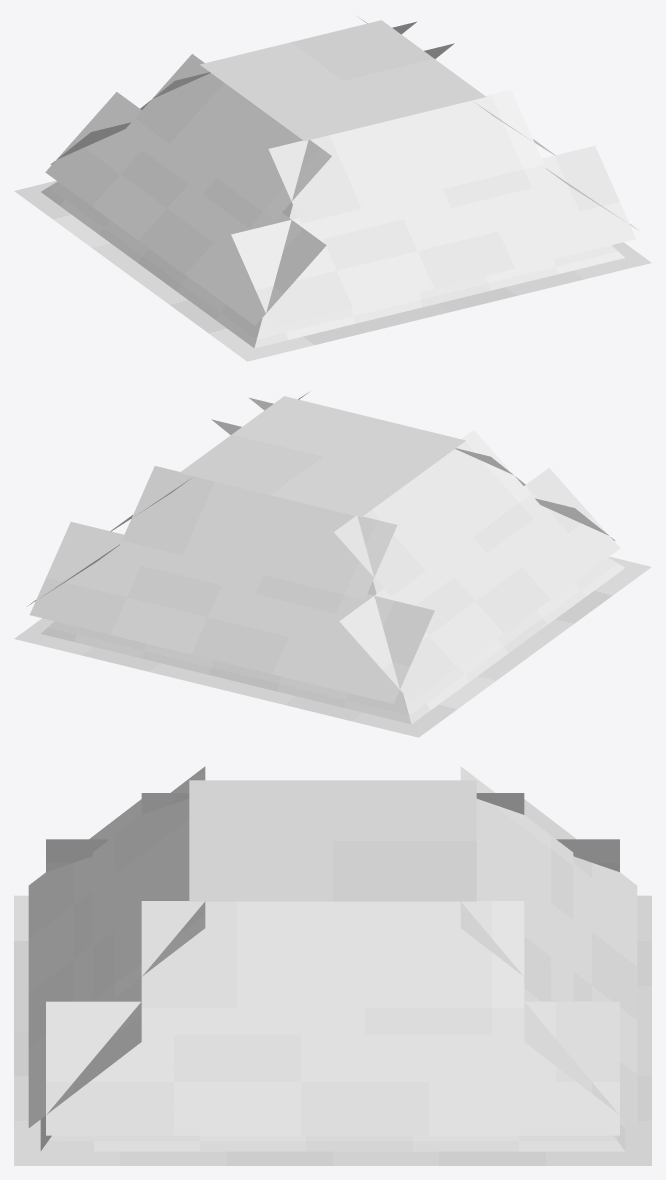
Rendered from dust_pile_small.obj.
3 views of the same model, one above another, from view 1: azimuth 30°, elevation 25°; view 2: azimuth 150°, elevation 25°; view 3: azimuth 270°, elevation 25° (orthographic). The views are drawn at different scales.
Visible parts, largest first — view 1: dust_pile_small; view 2: dust_pile_small; view 3: dust_pile_small.
Boxes of the visible parts, box(x1,y1,x2,y2) form: dust_pile_small: box(14, 16, 651, 361); dust_pile_small: box(14, 392, 651, 737); dust_pile_small: box(14, 766, 651, 1165).
Bounding box in the file's own units: 0.6271 × 0.2125 × 0.625.
